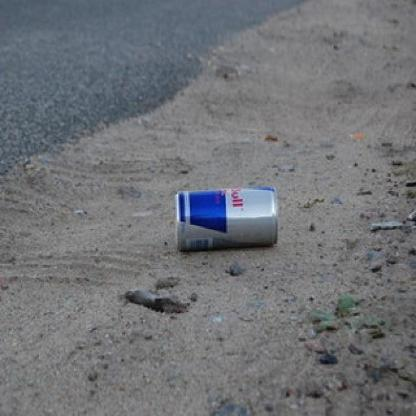Can: (174, 186, 278, 254)
